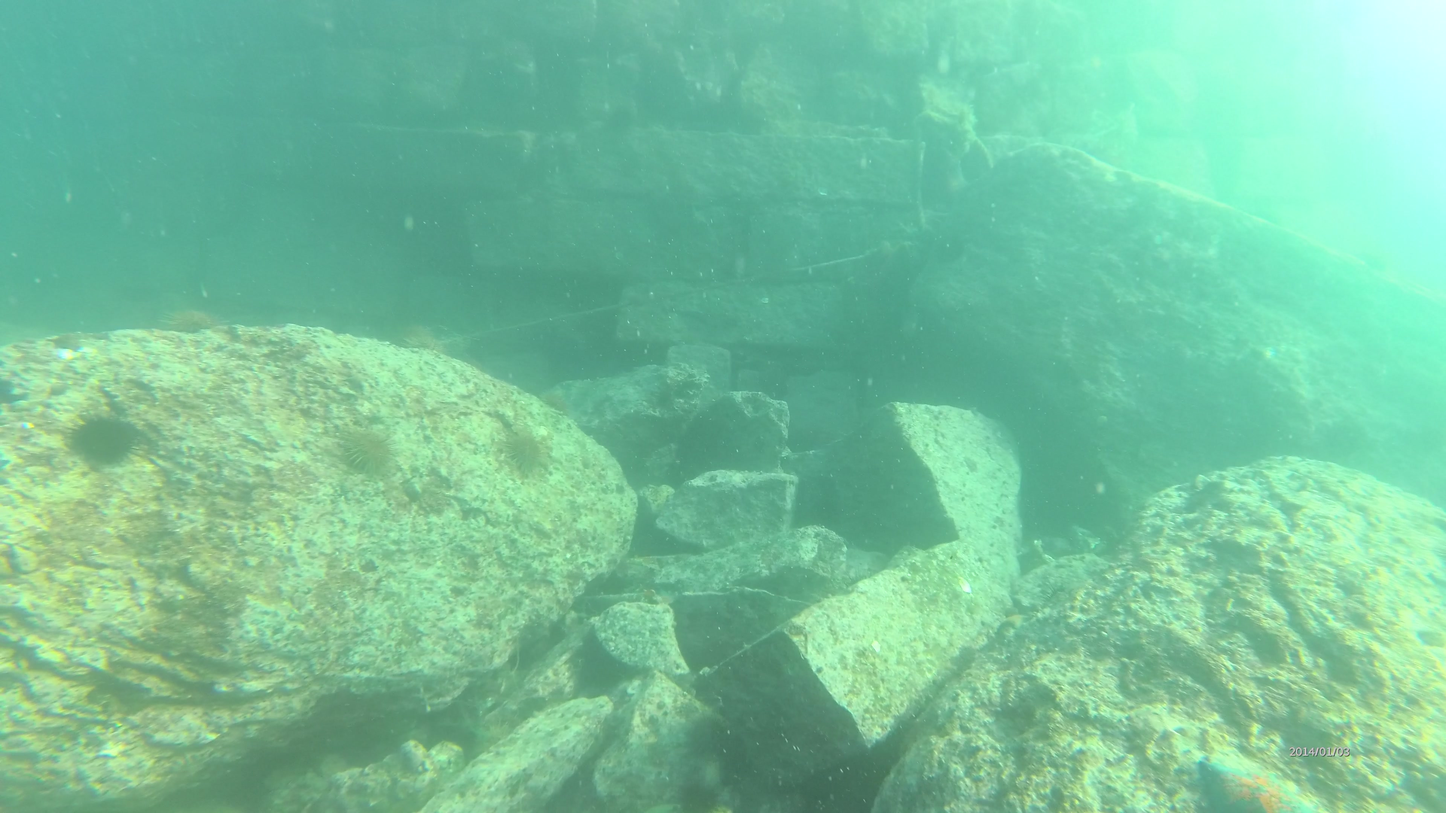holothurian: (1193, 744, 1316, 813), (393, 713, 396, 717)
starfish: (70, 410, 157, 469), (334, 422, 404, 481), (496, 426, 551, 480), (154, 303, 214, 340)
